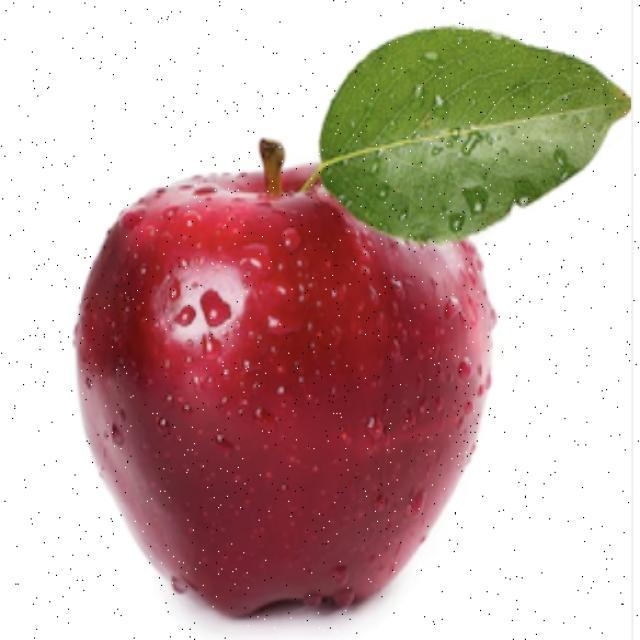Apple: (73, 139, 497, 619)
